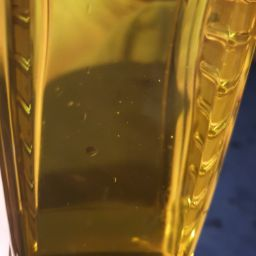Oil: (7, 4, 244, 256)
